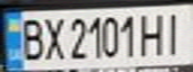0: (103, 12, 121, 59)
1: (84, 13, 106, 60), (118, 11, 139, 57)
2: (66, 14, 87, 61)
B: (15, 15, 48, 62)
H: (139, 9, 169, 56)
I: (160, 8, 190, 56)
X: (39, 14, 66, 62)
